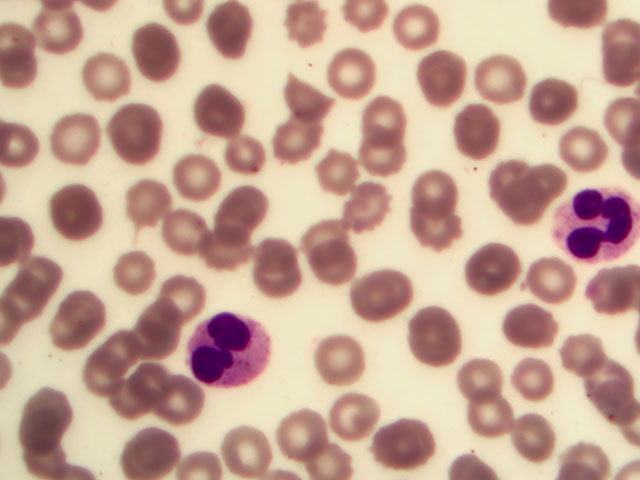RBC: (29, 5, 82, 57), (81, 48, 134, 100), (135, 26, 188, 78), (202, 4, 255, 56), (192, 83, 245, 135), (100, 109, 153, 161), (50, 113, 103, 165), (51, 187, 104, 239), (123, 175, 176, 227), (172, 151, 225, 203), (220, 129, 273, 181), (260, 121, 313, 173), (283, 76, 336, 128), (323, 46, 376, 98), (281, 1, 334, 53), (387, 4, 440, 56), (420, 54, 473, 106), (363, 91, 416, 143), (358, 131, 411, 183), (317, 151, 370, 203), (342, 182, 395, 234), (301, 207, 354, 259), (311, 236, 364, 288), (248, 244, 301, 296), (200, 225, 253, 277), (218, 184, 271, 236), (156, 205, 209, 257), (109, 245, 162, 297), (155, 268, 208, 320), (139, 300, 192, 352), (104, 319, 157, 371), (70, 359, 123, 411), (103, 373, 156, 425), (132, 360, 185, 412), (157, 381, 210, 433), (48, 304, 101, 356), (22, 251, 75, 303), (23, 388, 76, 440), (128, 428, 181, 480), (214, 428, 267, 480), (281, 407, 334, 459), (329, 388, 382, 440), (316, 334, 369, 386), (343, 272, 396, 324), (375, 263, 428, 315), (414, 311, 467, 363), (455, 346, 508, 398), (460, 390, 513, 442), (376, 416, 429, 468), (507, 414, 560, 466), (509, 356, 562, 408), (507, 298, 560, 350), (520, 256, 573, 308), (459, 243, 512, 295), (411, 205, 464, 257), (408, 164, 461, 216), (445, 106, 498, 158), (475, 52, 528, 104), (528, 74, 581, 126), (561, 125, 614, 177), (524, 153, 577, 205), (499, 179, 552, 231), (484, 161, 537, 213), (587, 34, 640, 86)
WBC: (552, 188, 640, 265), (187, 311, 270, 392)
